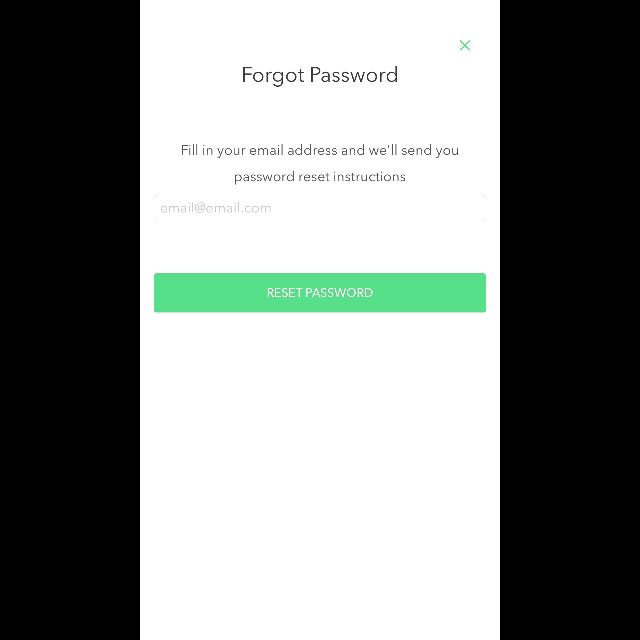icon: (460, 41, 470, 51)
input: (154, 195, 486, 221)
text: (182, 145, 458, 185), (243, 66, 397, 88), (162, 202, 270, 214)
textbutton: (154, 274, 486, 312)
